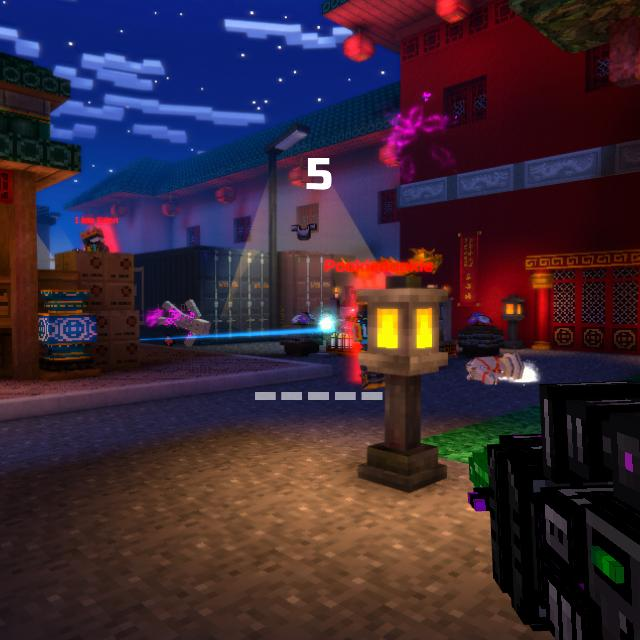Enemy: (352, 289, 385, 389), (82, 228, 110, 253)
